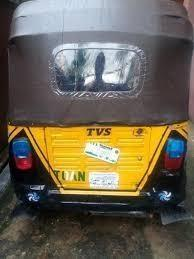keke: (6, 4, 194, 237)
